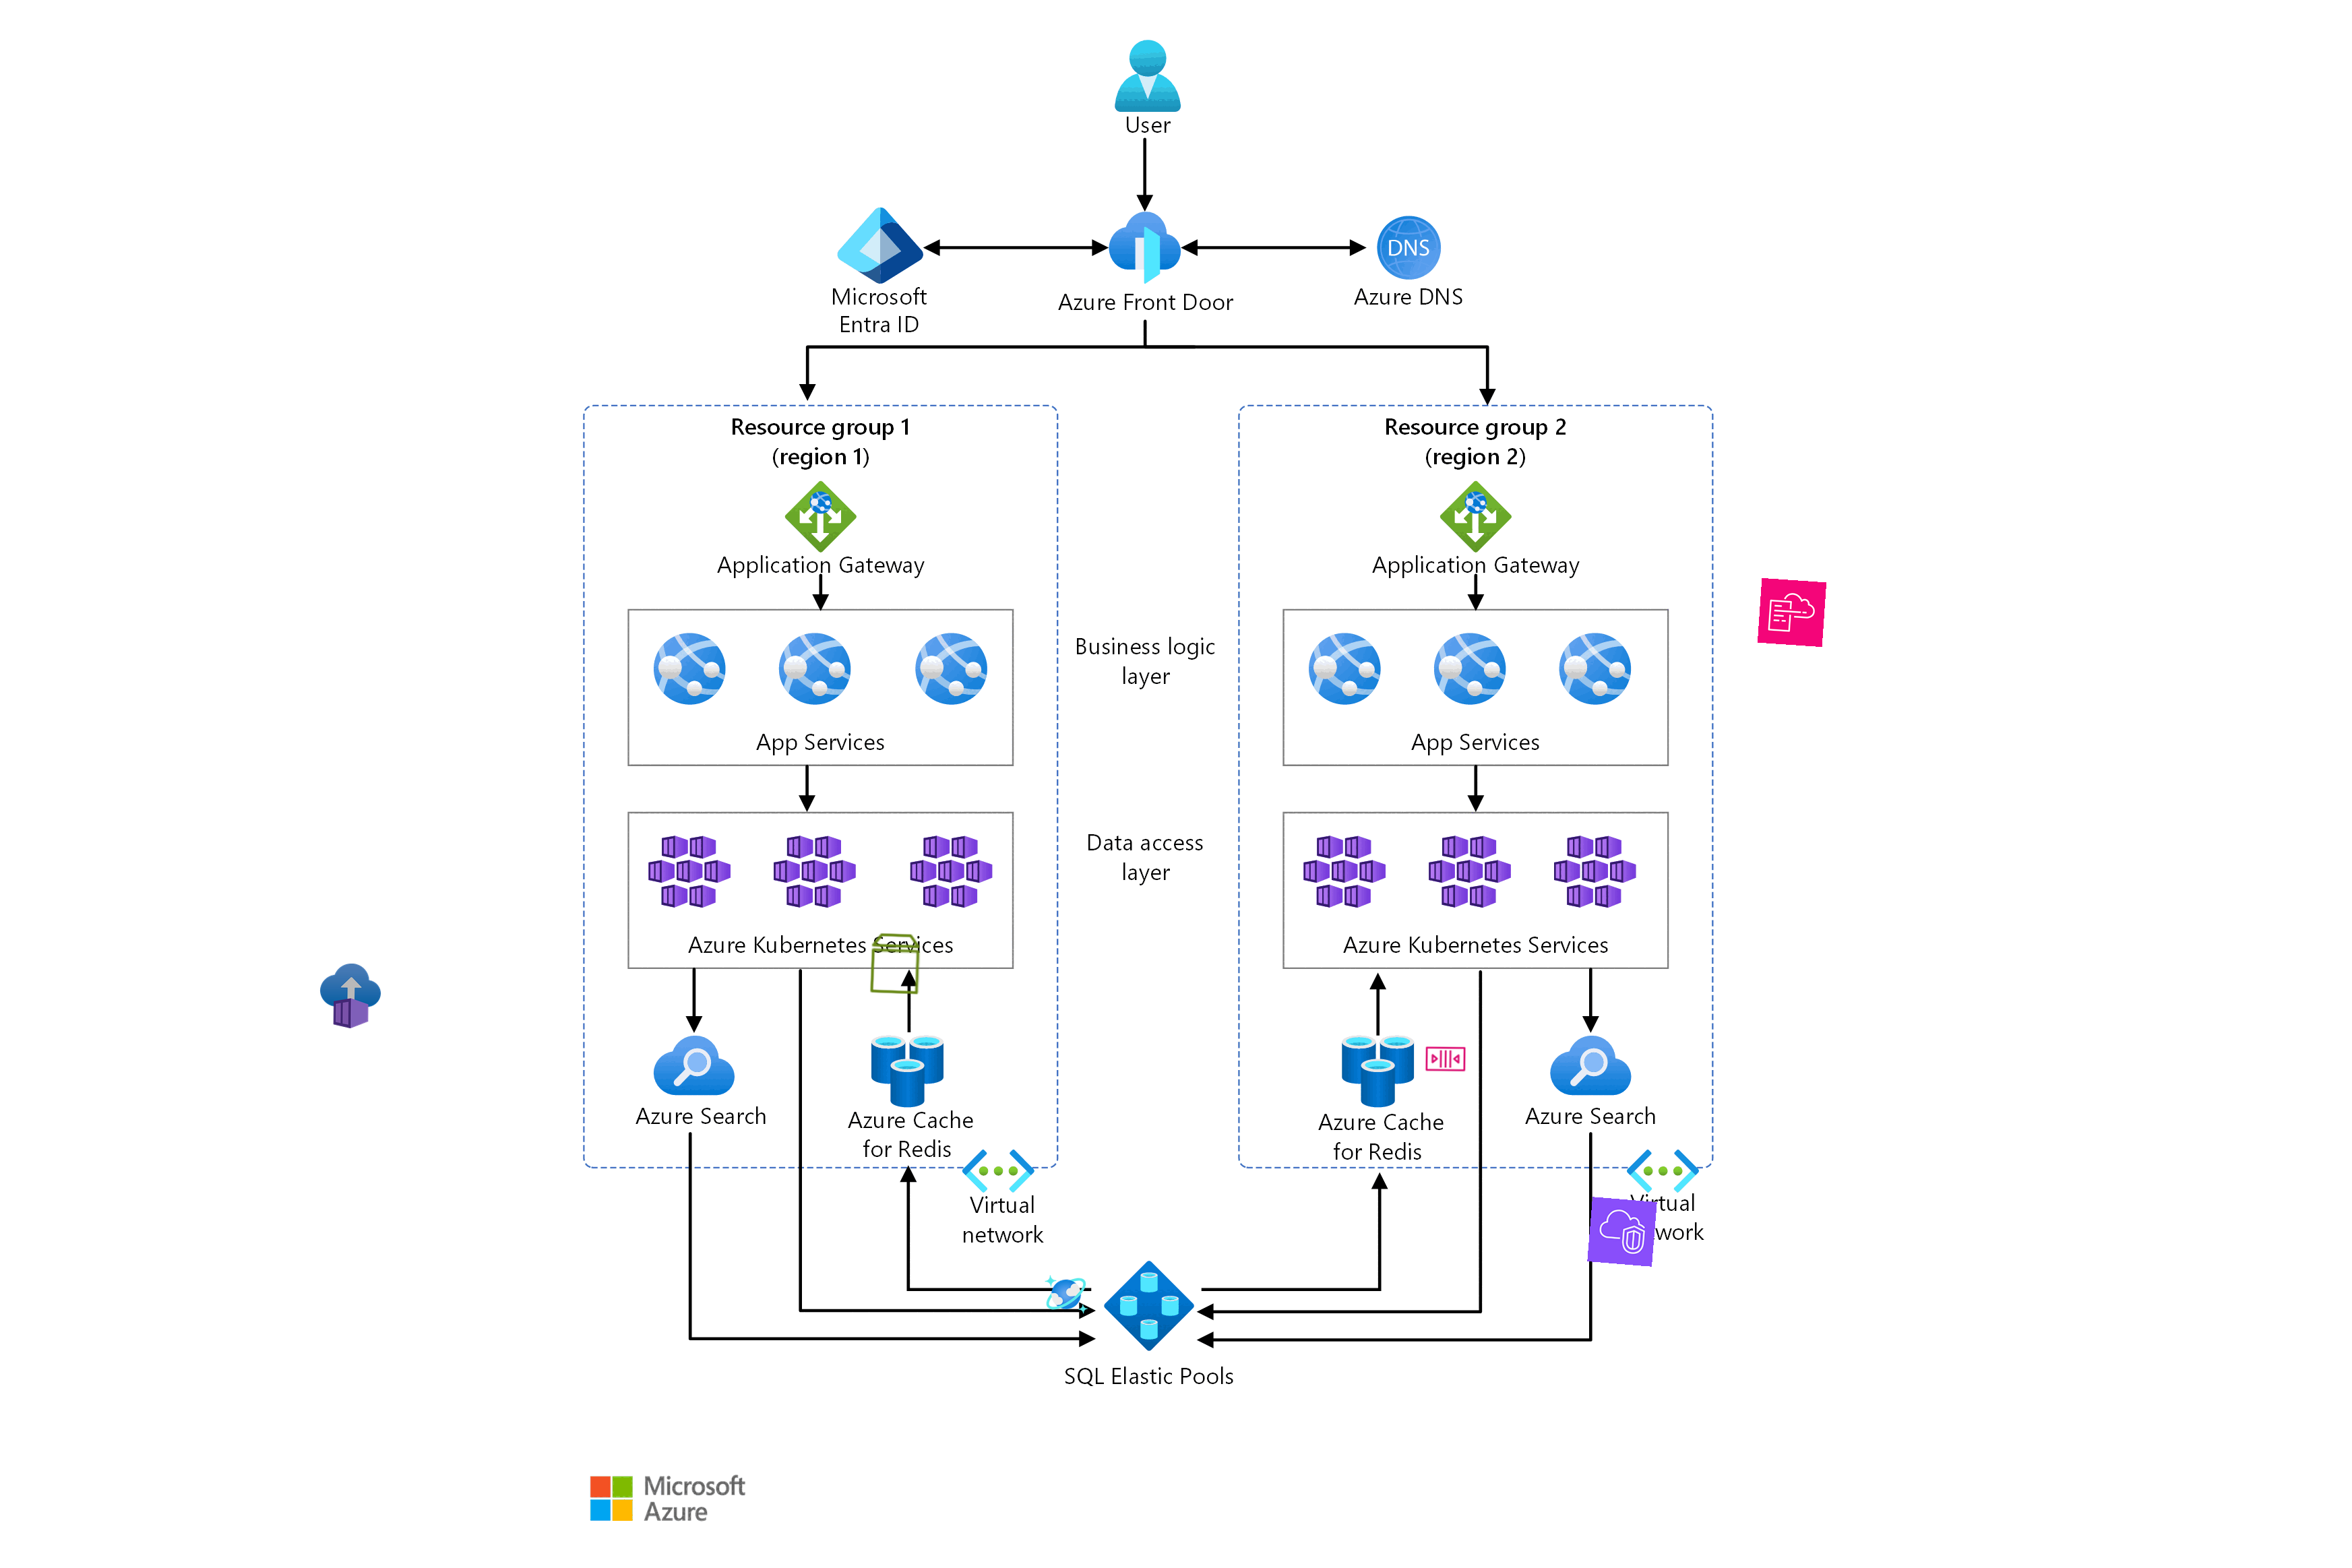aws_amazon_virtual_private_cloud: (1587, 1197, 1657, 1267)
aws_cloudformation: (1757, 578, 1827, 647)
aws_elastic_block_store_volume: (863, 929, 929, 997)
aws_simple_queue_service_queue: (1423, 1036, 1468, 1082)
azure_container_instances: (317, 962, 383, 1029)
azure_cosmos_db: (1043, 1270, 1090, 1318)
